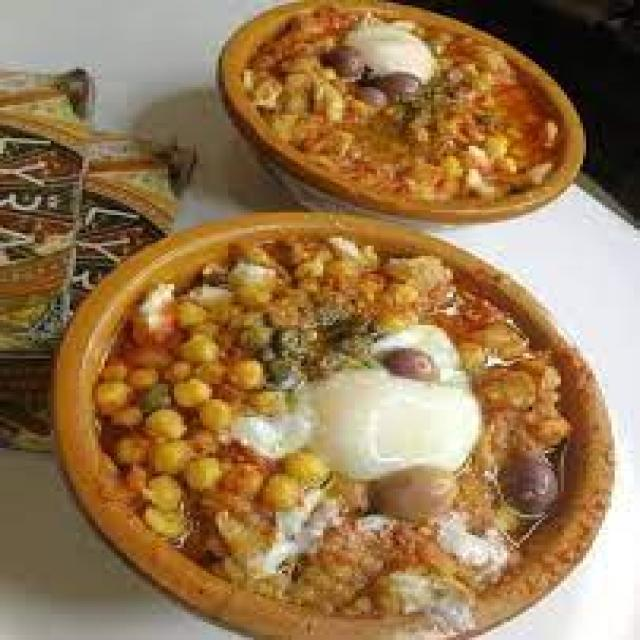Lablabi: (100, 225, 578, 620), (220, 1, 569, 216)
